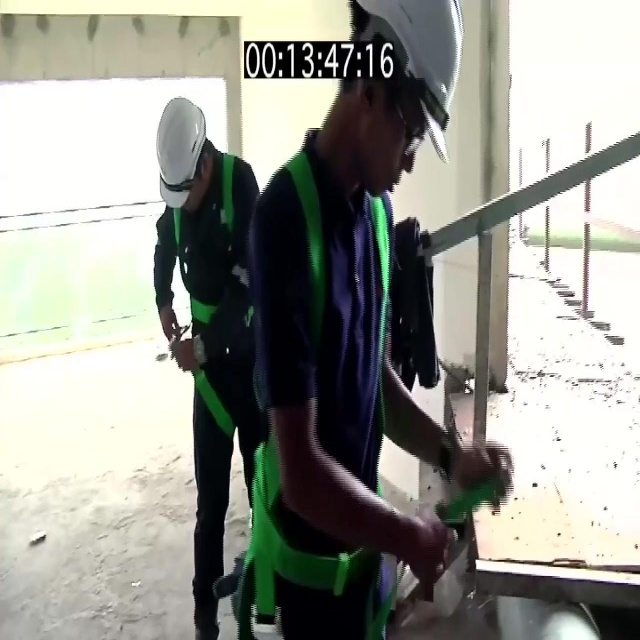Arnes_seguridad: (257, 152, 388, 624), (179, 152, 236, 443)
